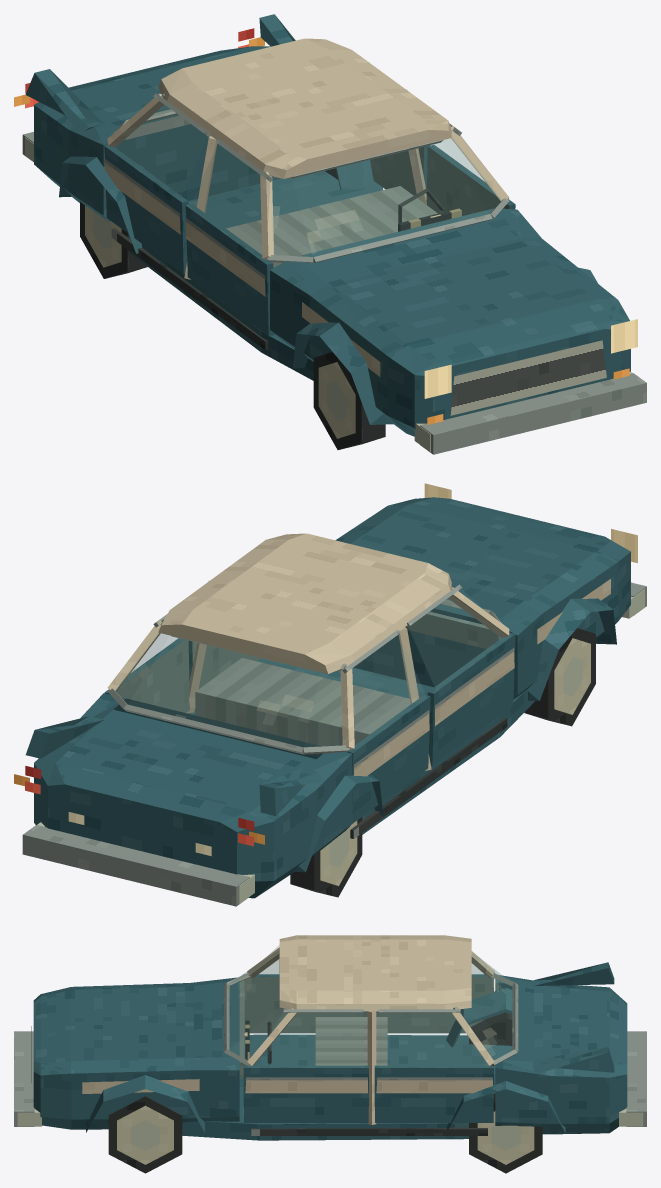
Rendered from northcairn-1956-mid.glb.
3 views of the same model, one above another, from view 1: azimuth 30°, elevation 25°; view 2: azimuth 150°, elevation 25°; view 3: azimuth 270°, elevation 25° (orthographic). The views are drawn at different scales.
Visible parts, largest first — view 1: body, Hood opening panel, Hinged side glass.003, Hinged side glass.002, Trunk opening panel, Shaped hinged outer door.002, Shaped hinged outer door.003, Padded inside door panel, Distance tyre.001, Distance hubcap.002, Padded inside door panel.001, Chrome-capped two-tone insert.004 (+5 smaller); view 2: body, Trunk opening panel, Hood opening panel, Hinged side glass.003, Hinged side glass.002, Shaped hinged outer door.002, Shaped hinged outer door.003, Padded inside door panel.001, Distance tyre.001, Distance hubcap.002, Chrome-capped two-tone insert.004, Distance tyre.003 (+4 smaller); view 3: body, Hood opening panel, Trunk opening panel, Shaped hinged outer door, Hinged side glass.001, Hinged side glass, Shaped hinged outer door.001, Padded inside door panel.002, Padded inside door panel.003, Distance hubcap, Distance tyre, Chrome-capped two-tone insert (+12 smaller).
Part boxes in pixels (x1,y1,x2,y2): body: (22, 14, 646, 454); Hood opening panel: (298, 208, 611, 365); Hinged side glass.003: (110, 102, 207, 199); Hinged side glass.002: (190, 144, 269, 261); Trunk opening panel: (69, 46, 257, 131); Shaped hinged outer door.002: (185, 205, 268, 335); Shaped hinged outer door.003: (104, 146, 183, 273); Padded inside door panel: (426, 146, 509, 215); Distance tyre.001: (313, 352, 385, 449); Distance hubcap.002: (318, 362, 355, 438); Padded inside door panel.001: (370, 147, 424, 195); Chrome-capped two-tone insert.004: (186, 222, 265, 296); body: (22, 497, 646, 906); Trunk opening panel: (55, 709, 315, 821); Hood opening panel: (350, 497, 611, 619); Hinged side glass.003: (353, 635, 425, 748); Hinged side glass.002: (409, 589, 510, 690); Shaped hinged outer door.002: (432, 634, 515, 764); Shaped hinged outer door.003: (352, 696, 430, 823); Padded inside door panel.001: (116, 640, 189, 712); Distance tyre.001: (524, 628, 595, 726); Distance hubcap.002: (554, 638, 590, 714); Chrome-capped two-tone insert.004: (435, 652, 514, 725); Distance tyre.003: (290, 817, 362, 897); body: (14, 935, 646, 1140); Hood opening panel: (33, 981, 239, 1063); Trunk opening panel: (515, 984, 627, 1064); Shaped hinged outer door: (243, 1068, 368, 1122); Hinged side glass.001: (379, 1013, 487, 1066); Hinged side glass: (249, 1013, 363, 1066); Shaped hinged outer door.001: (374, 1068, 493, 1122); Padded inside door panel.002: (243, 977, 367, 1033); Padded inside door panel.003: (376, 977, 493, 1033); Distance hubcap: (117, 1105, 173, 1164); Distance tyre: (108, 1096, 182, 1173); Chrome-capped two-tone insert: (245, 1080, 367, 1093).
Size of the model in its own units: 2.05 by 1.54 by 5.37.
Materials: 6 (6 with a texture image).
